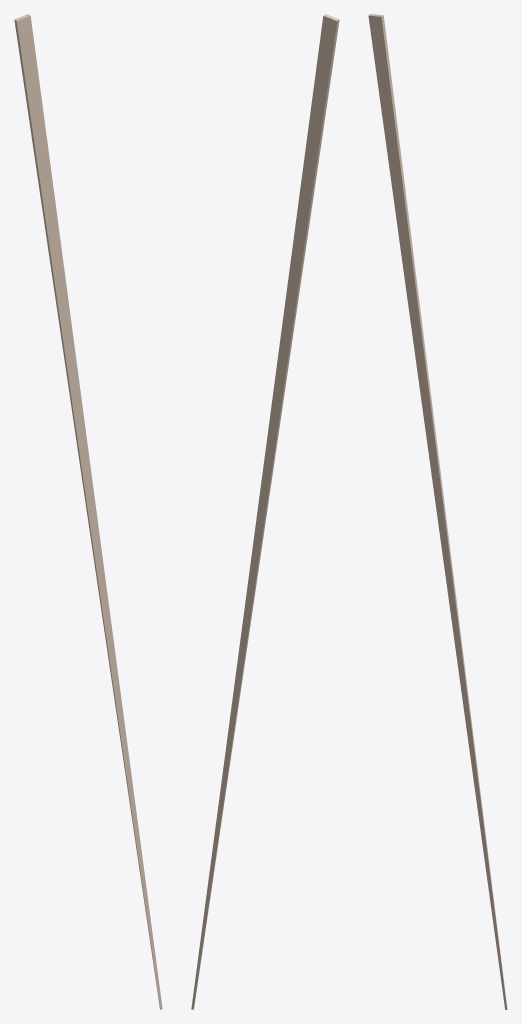
Rendered from cube_lev3.glb.
The picture shows the model from 3 angles, left to right: view 1: azimuth 30°, elevation 25°; view 2: azimuth 150°, elevation 25°; view 3: azimuth 330°, elevation 25°; orthographic projection. The views are drawn at different scales.
Visible parts, largest first — view 1: cube_lev3; view 2: cube_lev3; view 3: cube_lev3.
Boxes of the visible parts, x1,y1,x2,y2 form: cube_lev3: (14,14,162,1009); cube_lev3: (191,14,339,1009); cube_lev3: (368,14,507,1009).
Size of the model in its own units: 0.7339 by 4.9 by 0.0205.
